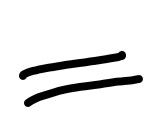eqv: (19, 51, 144, 107)
